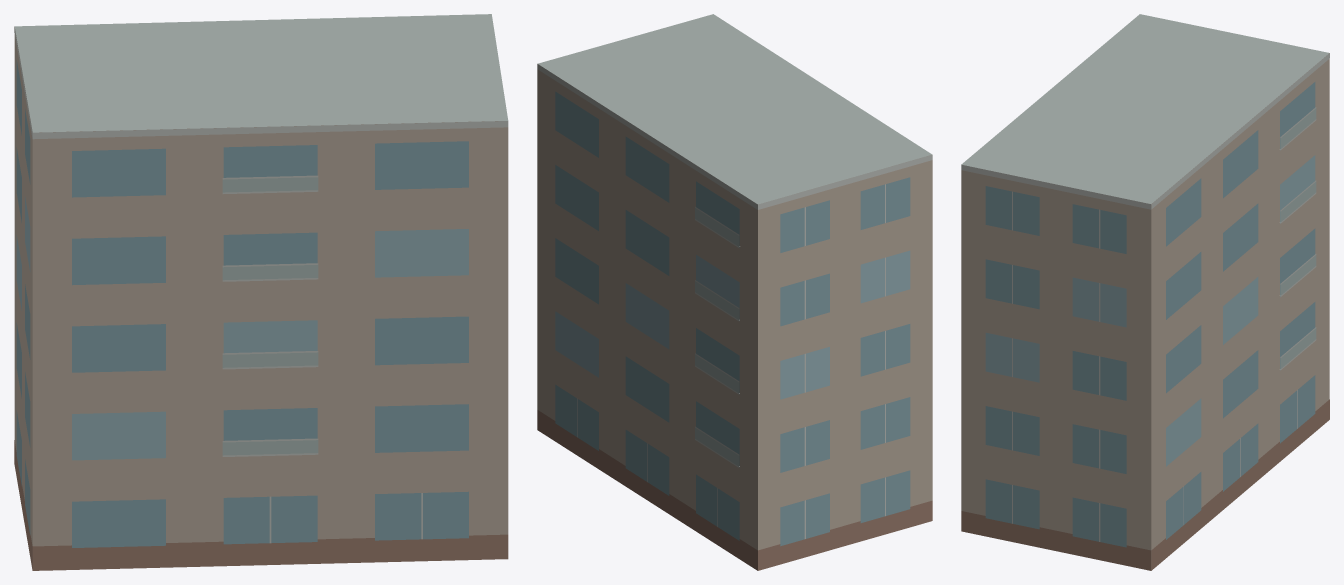
File: survey-upis-32842952.glb
3 views of the same model, side by side, from view 1: azimuth 30°, elevation 25°; view 2: azimuth 150°, elevation 25°; view 3: azimuth 270°, elevation 25° (orthographic). The views are drawn at different scales.
Parts seen in each view (by area): view 1: survey-upis-32842952.tmp; view 2: survey-upis-32842952.tmp; view 3: survey-upis-32842952.tmp.
Boxes of the visible parts, x1=… form: survey-upis-32842952.tmp: x1=14, y1=14, x2=508, y2=570; survey-upis-32842952.tmp: x1=537, y1=14, x2=932, y2=570; survey-upis-32842952.tmp: x1=961, y1=14, x2=1329, y2=570.
Size of the model in its own units: 18.08 by 16.25 by 14.81.
